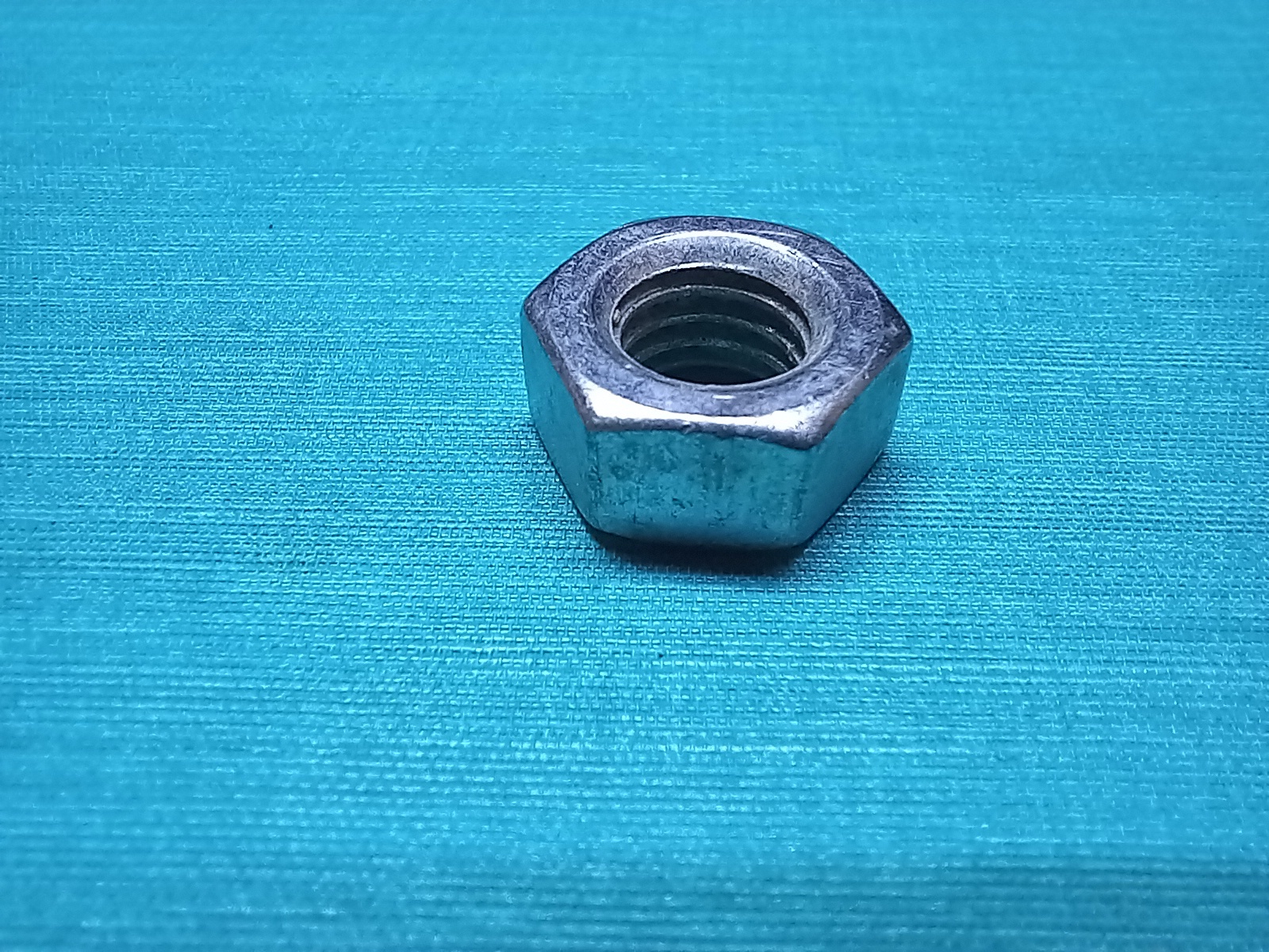nut: (508, 212, 914, 603)
